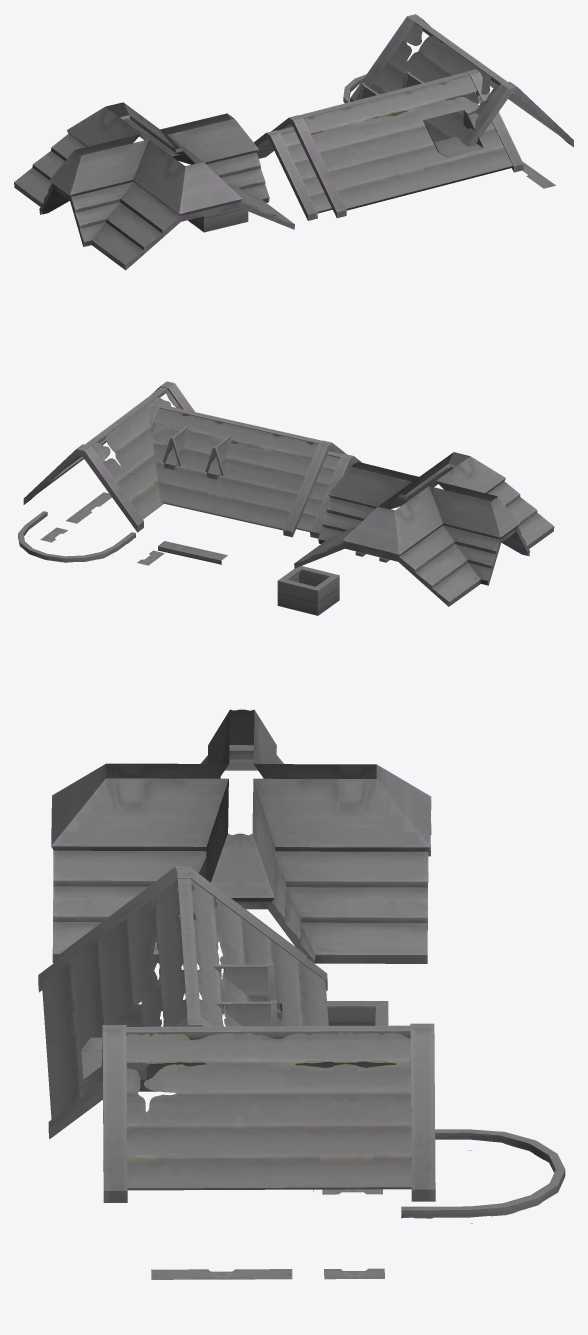
The model's file is pref_sm_garden_house_vertexcolor02_lv0.fbx.
The picture shows the model from 3 angles, top to bottom: view 1: azimuth 30°, elevation 25°; view 2: azimuth 150°, elevation 25°; view 3: azimuth 270°, elevation 25°; orthographic projection. The views are drawn at different scales.
Parts seen in each view (by area): view 1: pref_sm_garden_house_vertexcolor02_lv0; view 2: pref_sm_garden_house_vertexcolor02_lv0; view 3: pref_sm_garden_house_vertexcolor02_lv0.
Boxes of the visible parts, bbox=[...] form: pref_sm_garden_house_vertexcolor02_lv0: bbox=[14, 14, 573, 270]; pref_sm_garden_house_vertexcolor02_lv0: bbox=[18, 381, 554, 615]; pref_sm_garden_house_vertexcolor02_lv0: bbox=[38, 709, 565, 1279].
Size of the model in its own units: 19.66 by 6.27 by 12.03.
